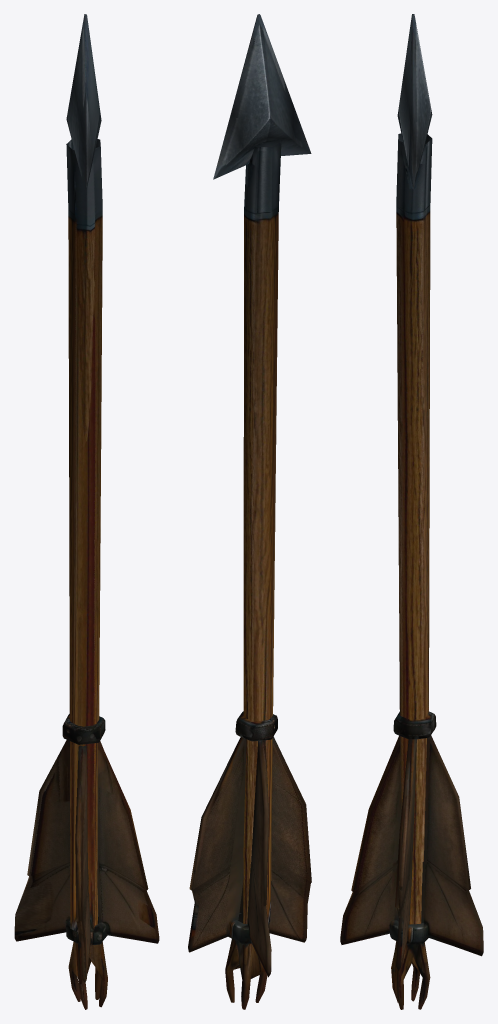
Rendered from Arrow_optimized.glb.
3 renders of one model, left to right at view 1: azimuth 90°, elevation 25°; view 2: azimuth 210°, elevation 25°; view 3: azimuth 270°, elevation 25°, orthographic.
Parts seen in each view (by area): view 1: arrow; view 2: arrow; view 3: arrow.
Boxes of the visible parts, <box> form: arrow: <box>14,14,159,1009</box>; arrow: <box>188,14,311,1009</box>; arrow: <box>340,14,483,1009</box>.
Bounding box in the file's own units: 0.1302 × 1.06 × 0.1402.
1 material, 1 textured.
